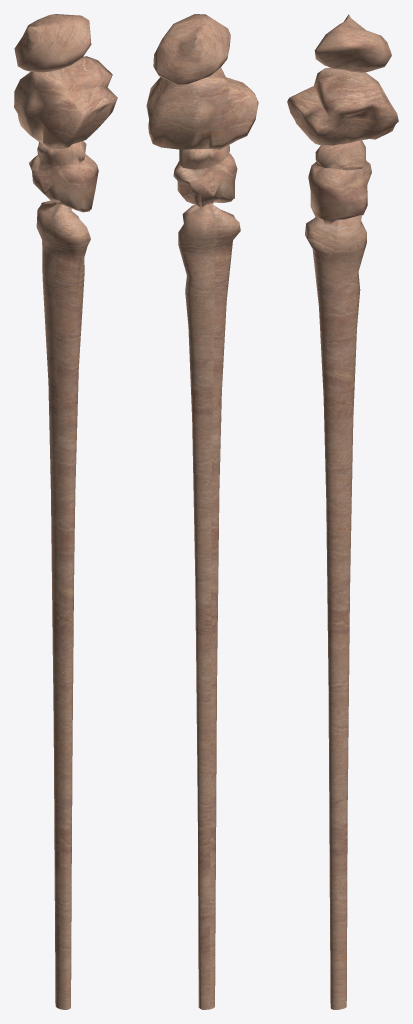
The model's file is Ob_RockPillar6.fbx.
3 views of the same model, side by side, from view 1: azimuth 90°, elevation 25°; view 2: azimuth 150°, elevation 25°; view 3: azimuth 330°, elevation 25° (orthographic).
Parts seen in each view (by area): view 1: Ob_RockPillar6; view 2: Ob_RockPillar6; view 3: Ob_RockPillar6.
Part boxes in pixels (bbox=[...]): Ob_RockPillar6: bbox=[14, 14, 117, 1009]; Ob_RockPillar6: bbox=[146, 14, 258, 1009]; Ob_RockPillar6: bbox=[287, 14, 398, 1009].
Bounding box in the file's own units: 9900 × 96971 × 9249.
